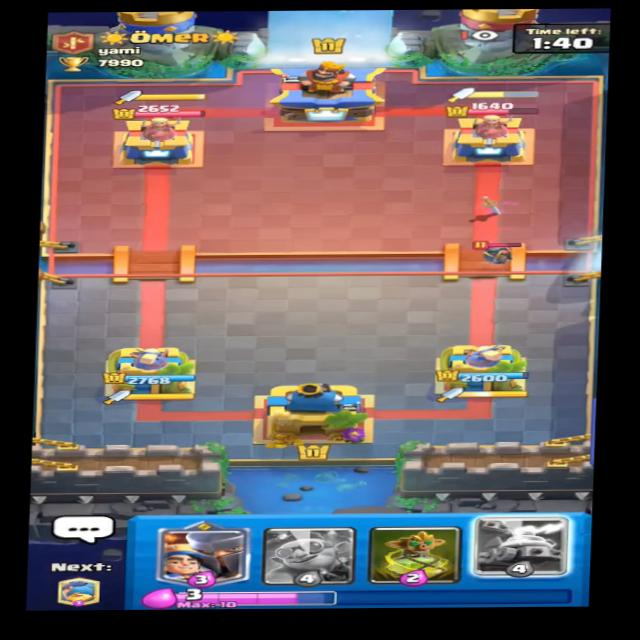mini-pekka: (469, 237, 535, 270)
